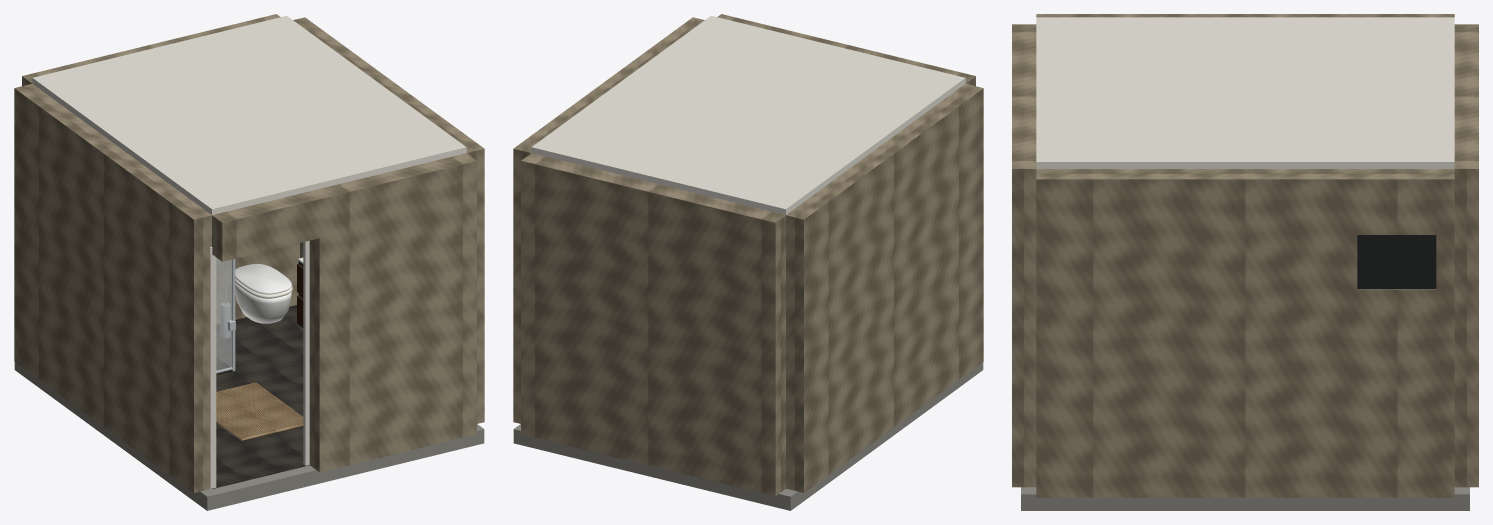
The model's file is 3_Alternatif_banyo.glb.
The picture shows the model from 3 angles, left to right: view 1: azimuth 30°, elevation 25°; view 2: azimuth 150°, elevation 25°; view 3: azimuth 270°, elevation 25°; orthographic projection. The views are drawn at different scales.
Visible parts, largest first — view 1: Sol duvar, Ön duvar | sunum için gizli, Tavan | plan görünümünde gizlenir, Zemin taşıyıcı, Sağ duvar / gerçek pencere boşluğu, Dokulu banyo paspası, 103x20cm tam boy rezervuar çıkıntısı, Zemin seramik / derz 2mm.013, Zemin seramik / derz 2mm.012, Kabin menteşeli kapı, Zemin seramik / derz 2mm, Zemin seramik / derz 2mm.005 (+7 smaller); view 2: Arka duvar / gerçek niş boşlukları, Sol duvar, Tavan | plan görünümünde gizlenir, Zemin taşıyıcı, Sağ duvar / gerçek pencere boşluğu, Ön duvar | sunum için gizli; view 3: Sağ duvar / gerçek pencere boşluğu, Tavan | plan görünümünde gizlenir, Arka duvar / gerçek niş boşlukları, Ön duvar | sunum için gizli, Zemin taşıyıcı, Havalandırma karanlık iç boşluğu, Sol duvar.
Boxes of the visible parts, box(x1,y1,x2,y2) form: Sol duvar: box(14, 83, 211, 492); Ön duvar | sunum için gizli: box(212, 153, 476, 472); Tavan | plan görünümünde gizlenir: box(32, 16, 466, 214); Zemin taşıyıcı: box(14, 362, 484, 510); Sağ duvar / gerçek pencere boşluğu: box(293, 17, 484, 423); Dokulu banyo paspası: box(216, 382, 303, 440); 103x20cm tam boy rezervuar çıkıntısı: box(216, 243, 299, 323); Zemin seramik / derz 2mm.013: box(216, 324, 297, 367); Zemin seramik / derz 2mm.012: box(233, 352, 303, 396); Kabin menteşeli kapı: box(216, 258, 232, 370); Zemin seramik / derz 2mm: box(212, 443, 279, 488); Zemin seramik / derz 2mm.005: box(241, 428, 309, 472); Arka duvar / gerçek niş boşlukları: box(521, 153, 785, 496); Sol duvar: box(786, 83, 983, 492); Tavan | plan görünümünde gizlenir: box(531, 16, 965, 214); Zemin taşıyıcı: box(513, 362, 983, 510); Sağ duvar / gerçek pencere boşluğu: box(513, 17, 704, 423); Ön duvar | sunum için gizli: box(717, 14, 975, 86); Sağ duvar / gerçek pencere boşluğu: box(1036, 169, 1454, 497); Tavan | plan görünümünde gizlenir: box(1036, 17, 1454, 168); Arka duvar / gerçek niş boşlukları: box(1454, 24, 1478, 487); Ön duvar | sunum için gizli: box(1012, 24, 1036, 487); Zemin taşıyıcı: box(1021, 487, 1469, 510); Havalandırma karanlık iç boşluğu: box(1357, 235, 1436, 289); Sol duvar: box(1036, 14, 1454, 17).
Size of the model in its own units: 2.57 by 2.49 by 3.07.
15 materials, 4 textured.
